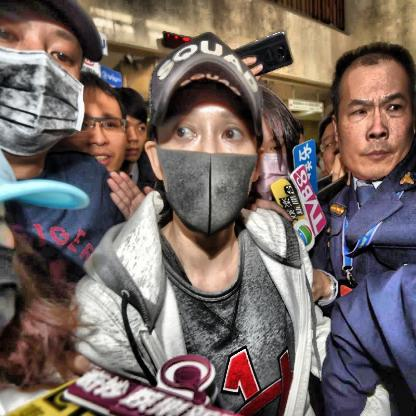not_wear: (149, 51, 255, 235), (0, 2, 87, 159), (336, 47, 416, 183), (73, 61, 128, 171)
